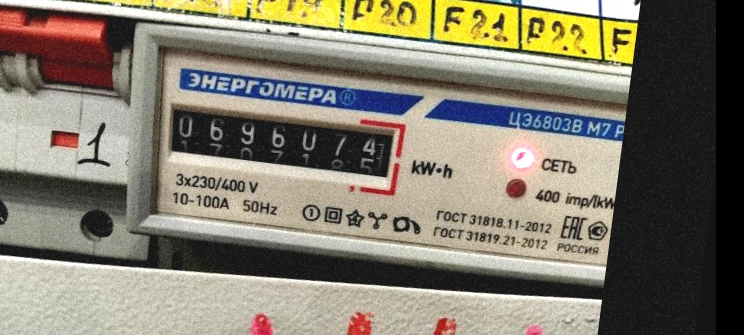0: (172, 111, 194, 138), (298, 124, 317, 152)
4: (359, 131, 378, 157)
5: (357, 155, 374, 175)
6: (205, 113, 227, 142), (267, 122, 286, 148)
7: (327, 129, 348, 157)
9: (235, 118, 257, 145)
screen: (150, 87, 410, 199)
